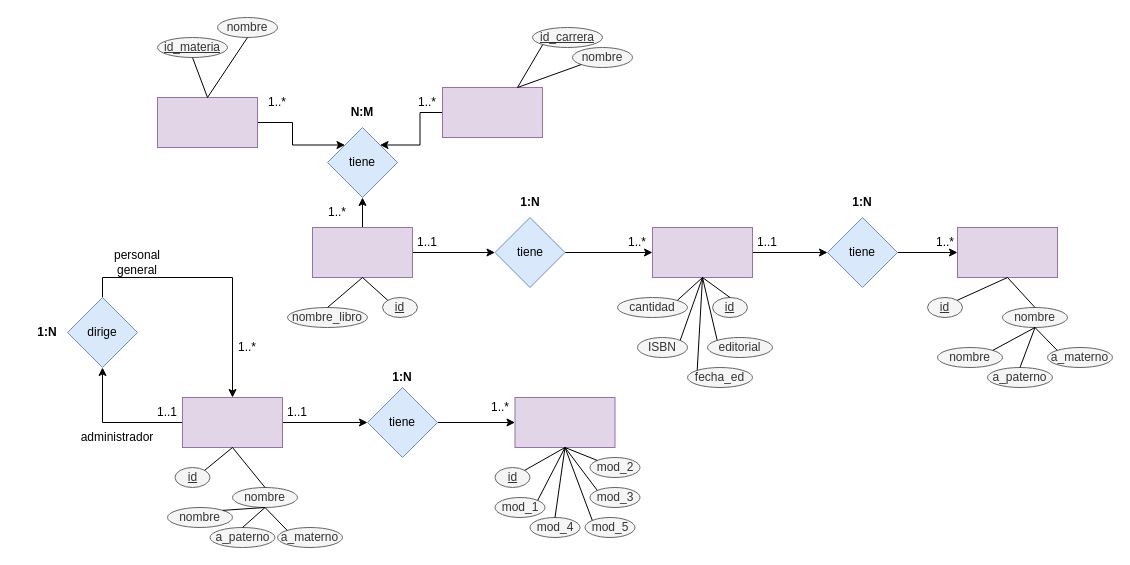
Some shapes in this 1130 by 565 pixel diagram are drawn without their labels. Here are the shapes that lost their labels. From the top down, the box of each, then its label:
(156, 96, 258, 148): MATERIA
(442, 86, 542, 138): CARRERA
(312, 226, 412, 278): TITULO
(652, 226, 752, 278): EDICION
(956, 226, 1058, 278): AUTOR
(182, 396, 282, 448): PERSONAL
(514, 396, 615, 448): PRIVILEGIO
